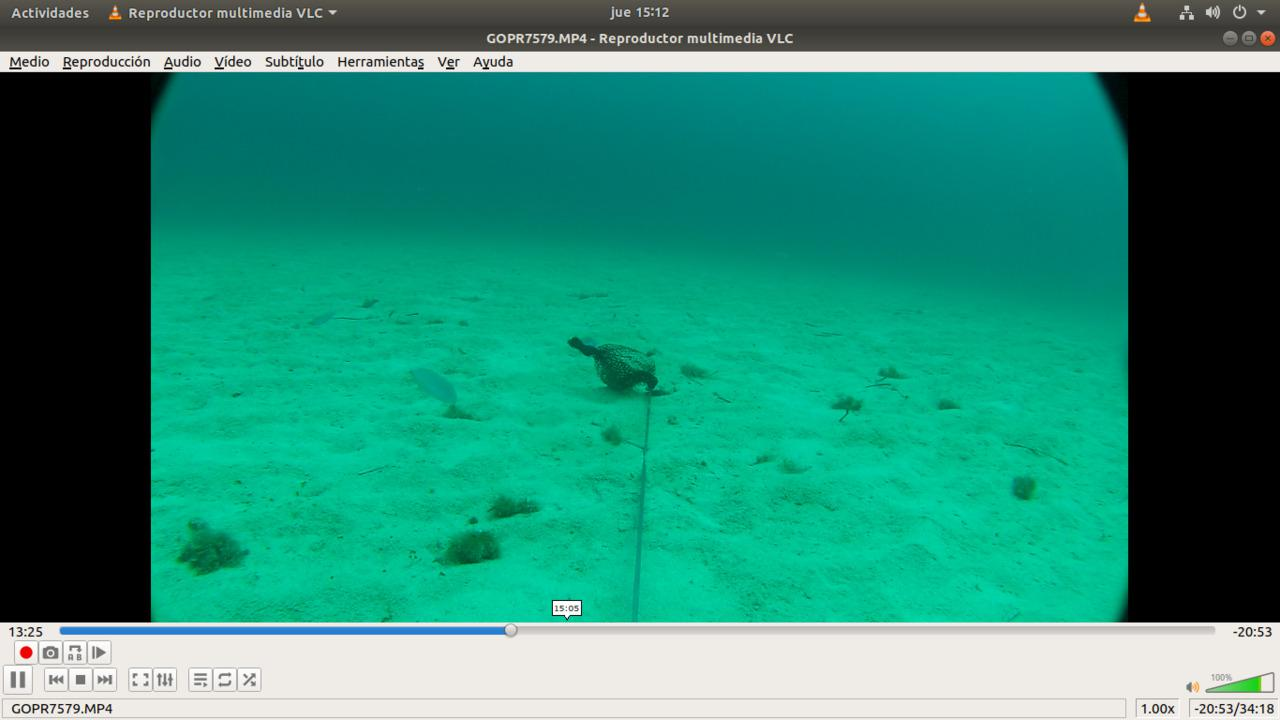raor: (393, 357, 463, 407), (297, 305, 340, 333)
